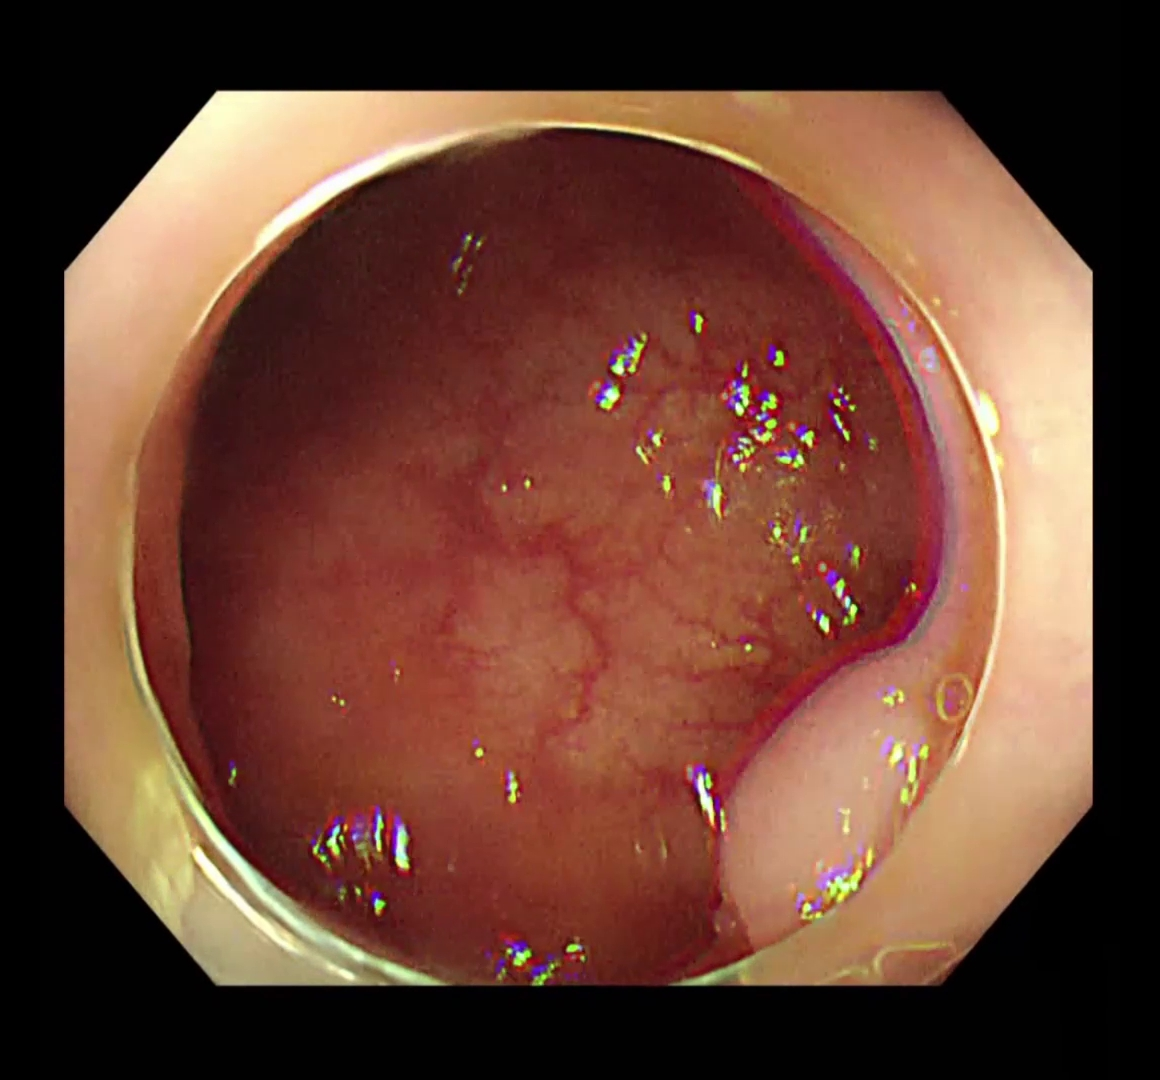polyp: (707, 645, 990, 957)
